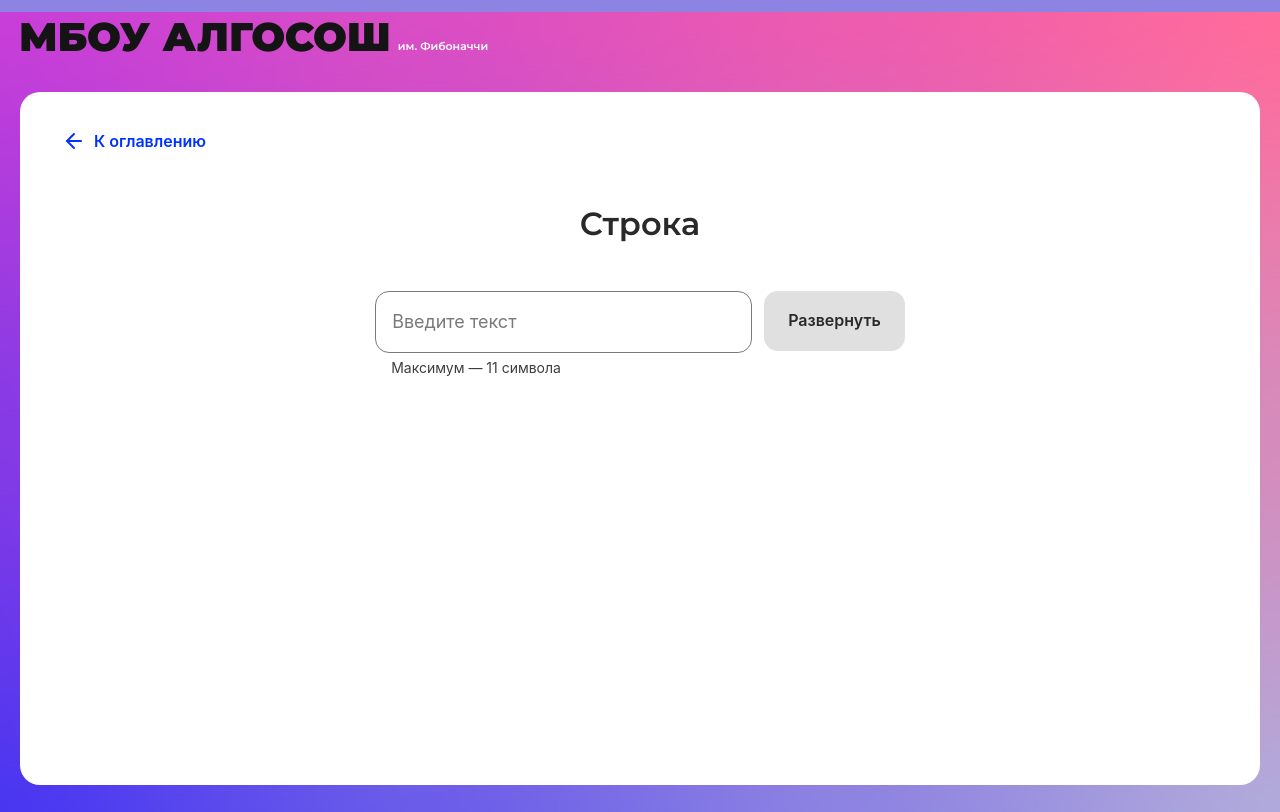
Test: StringComponent › reverses the string correctly with animation
The image size is (1280, 812).
In the field with test id "input": {"x": 564, "y": 322} [375, 291, 752, 353], type "qwerty"
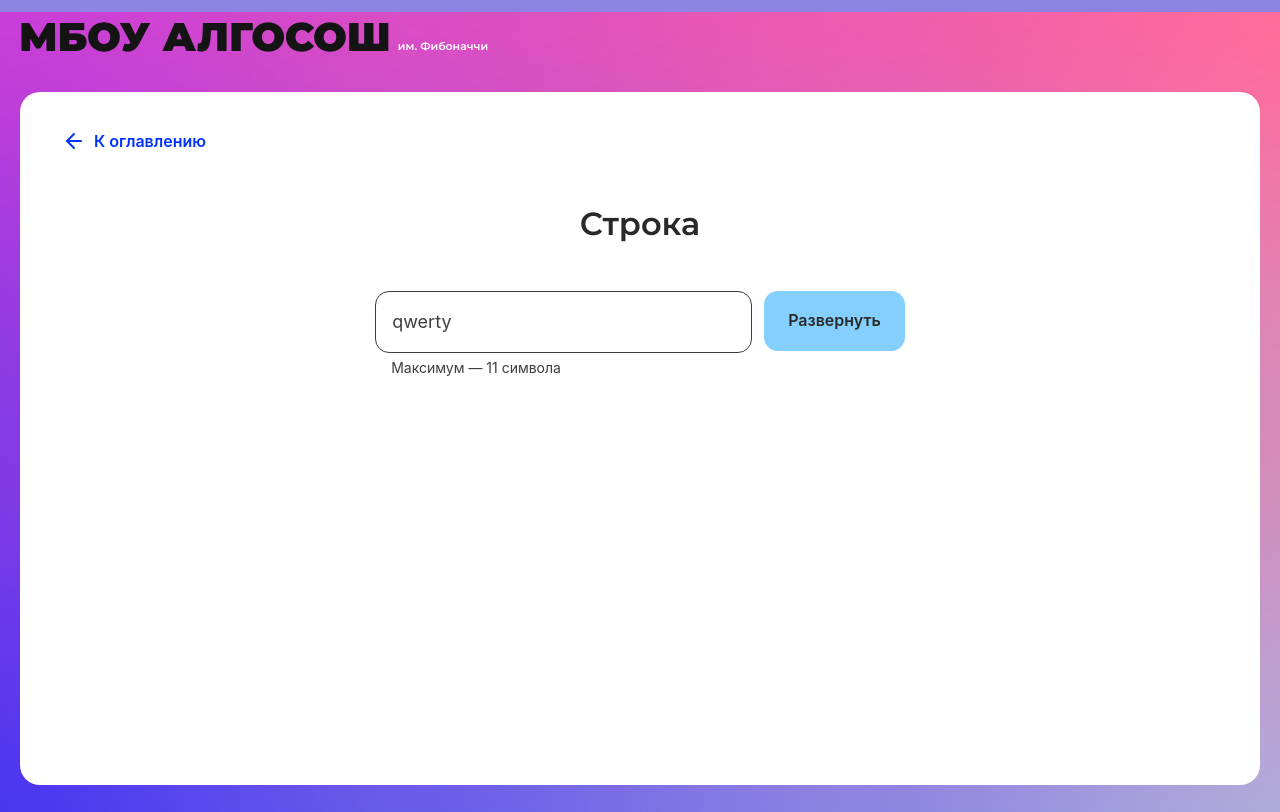
Check: the element with test id "reverse-button" is enabled
Click the button with test id "reverse-button": {"x": 835, "y": 321} [764, 291, 905, 351]
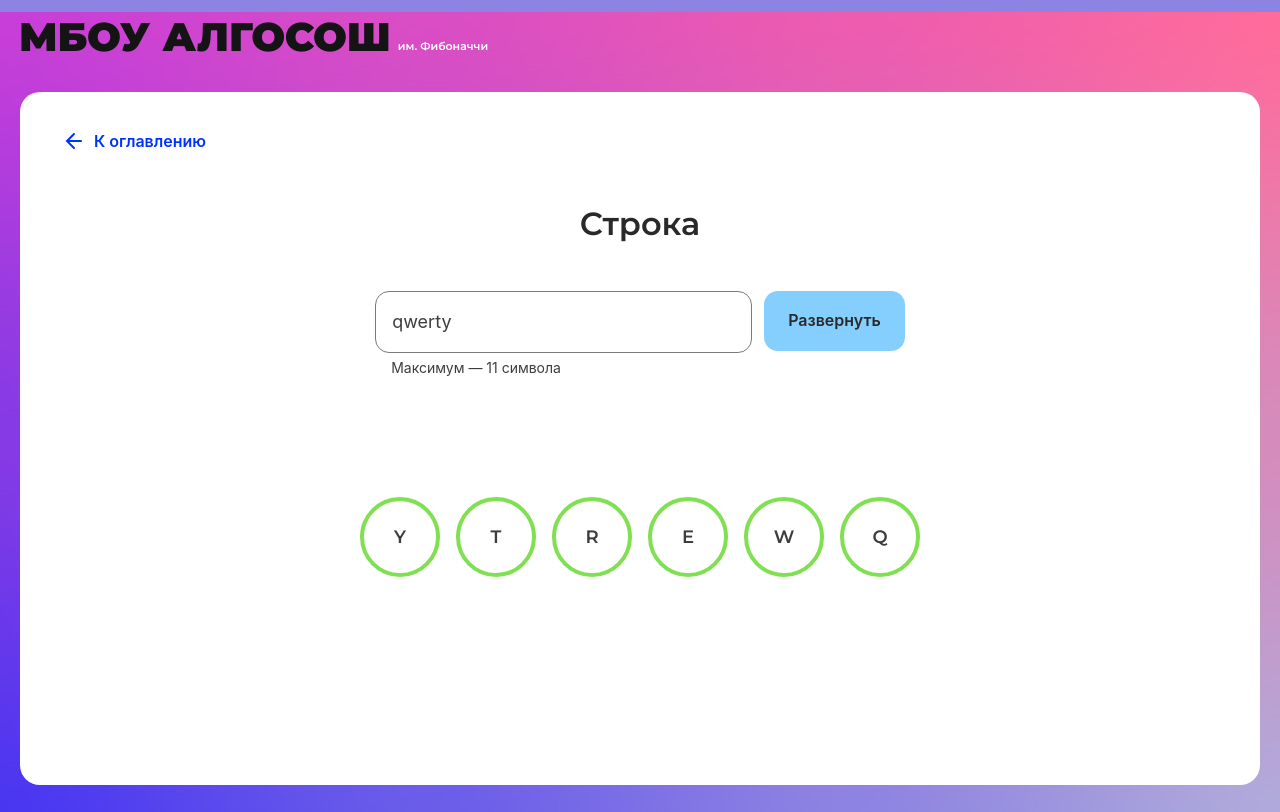
Check: the element with test id "circle" reads "y", box [360, 497, 440, 577]
Check: the element with test id "circle" reads "t", box [456, 497, 536, 577]
Check: the element with test id "circle" reads "r", box [552, 497, 632, 577]
